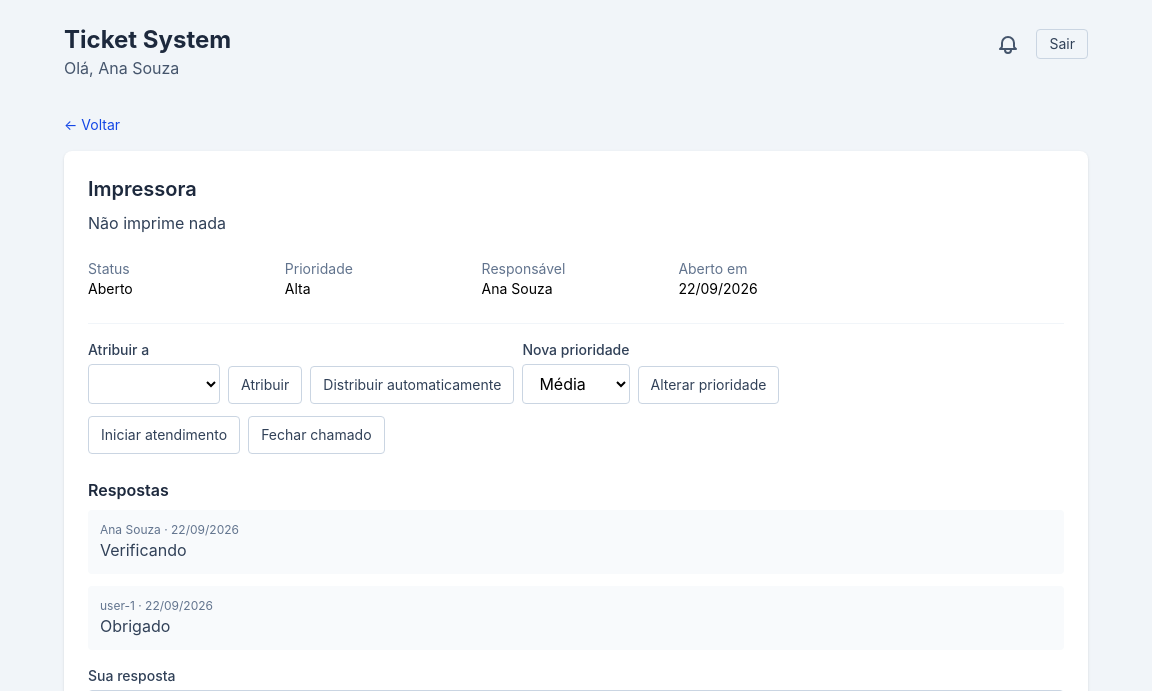
Test: TicketDetailView › closing › does not close without saying what was done
Check: the heading "Impressora" is shown, box [88, 177, 197, 201]
Click the button "Fechar chamado" at (316, 435), box [248, 416, 385, 454]
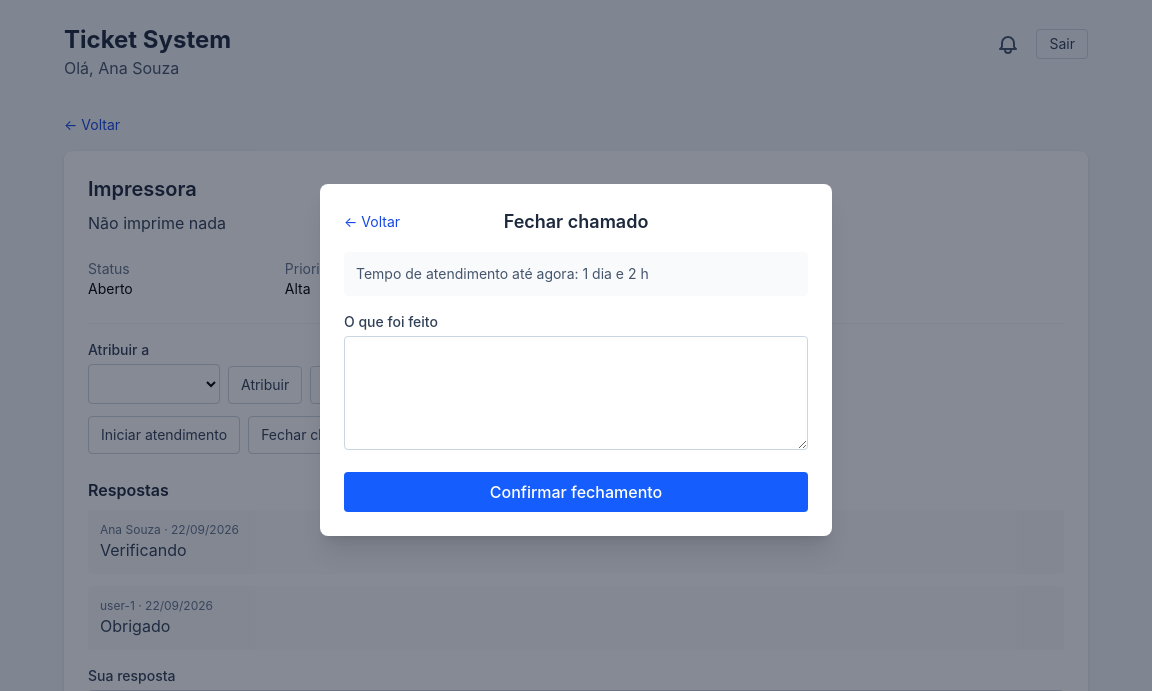
Click the button "Confirmar fechamento" at (576, 492), box [344, 472, 808, 512]
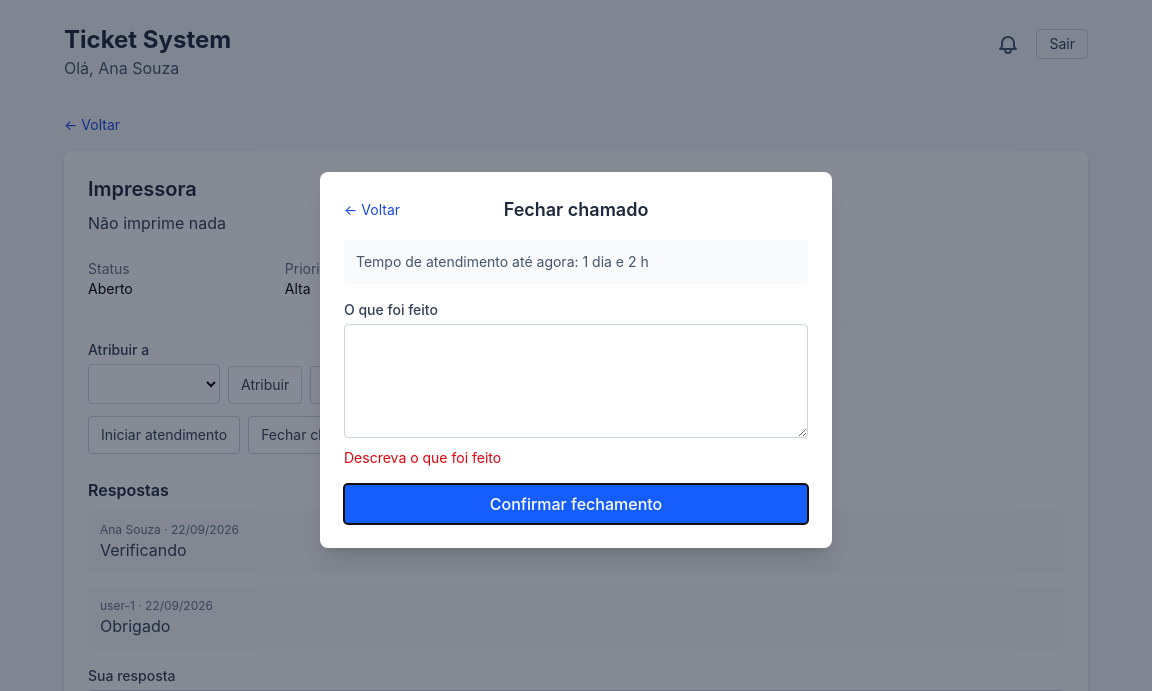
Check: the text "Descreva o que foi feito" is shown, box [344, 449, 501, 466]
